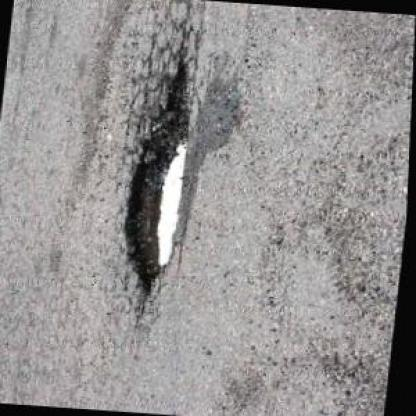pothole: (111, 54, 202, 291)
